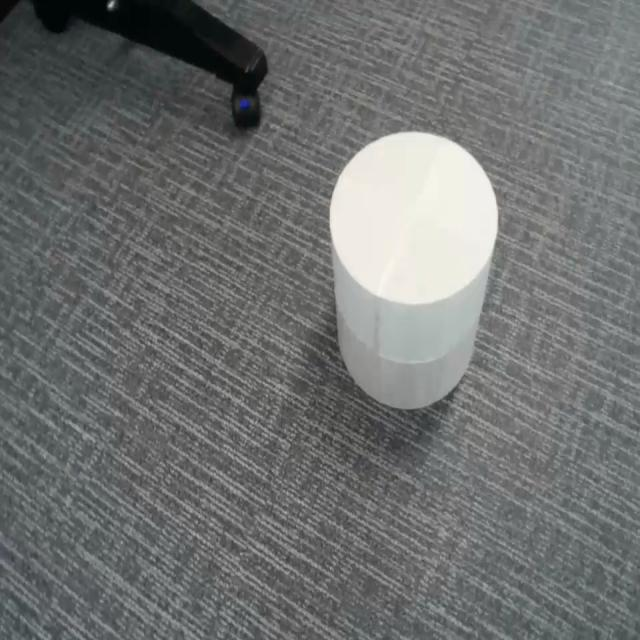cylinder: (329, 128, 499, 410)
